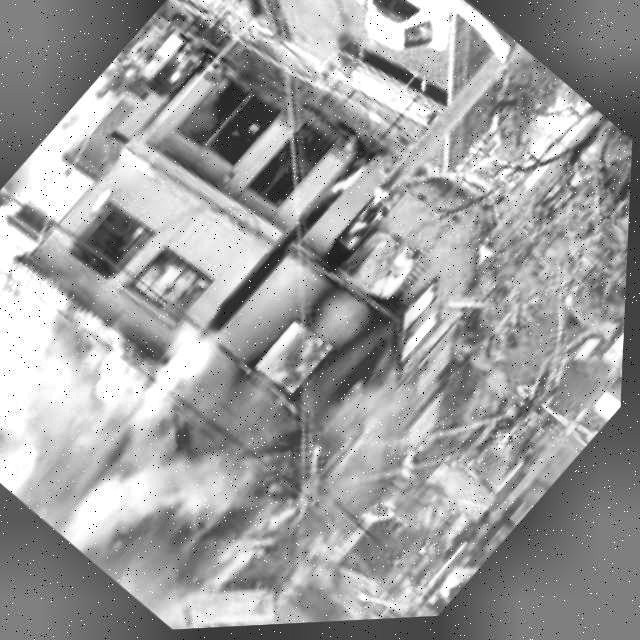Fire: (207, 154, 523, 480), (0, 347, 136, 490), (105, 222, 217, 334)
Smoke: (0, 228, 328, 640)
